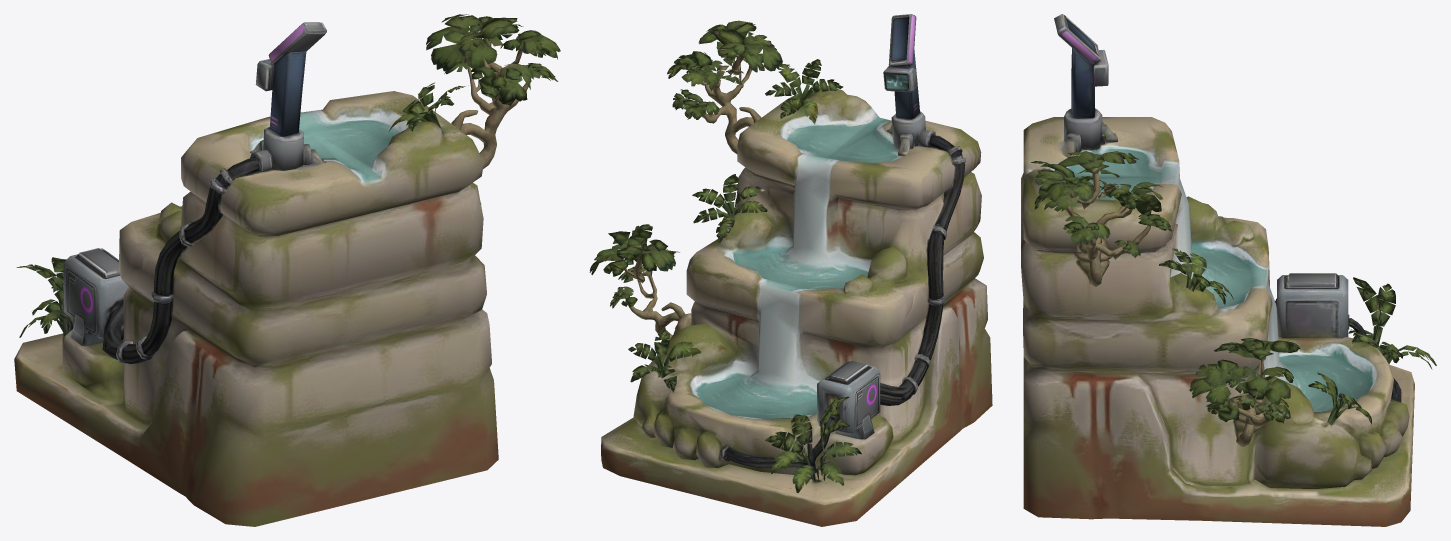
Rendered from jungle_waterfall.glb.
The picture shows the model from 3 angles, left to right: view 1: azimuth 30°, elevation 25°; view 2: azimuth 150°, elevation 25°; view 3: azimuth 270°, elevation 25°; orthographic projection. The views are drawn at different scales.
Visible parts, largest first — view 1: Body; view 2: Body; view 3: Body.
Boxes of the visible parts, x1,y1,x2,y2 form: Body: (14, 14, 560, 526); Body: (589, 14, 992, 526); Body: (1021, 14, 1436, 526).
Bounding box in the file's own units: 17.42 × 20 × 17.81.
1 material, 1 textured.
